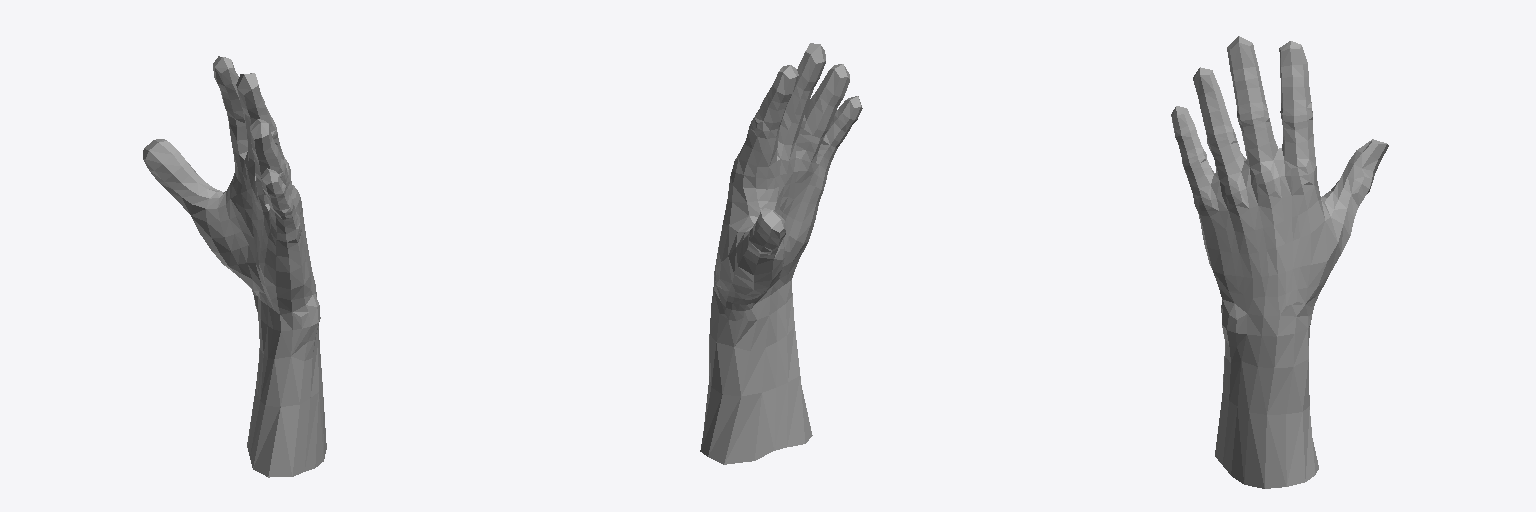
Rendered from hand_01.obj.
3 renders of one model, left to right at view 1: azimuth 30°, elevation 25°; view 2: azimuth 150°, elevation 25°; view 3: azimuth 270°, elevation 25°, orthographic.
Visible parts, largest first — view 1: hand_man:polySurface1 group1; view 2: hand_man:polySurface1 group1; view 3: hand_man:polySurface1 group1.
Part boxes in pixels (x1,y1,x2,y2): hand_man:polySurface1 group1: (143, 56, 326, 477); hand_man:polySurface1 group1: (700, 43, 862, 464); hand_man:polySurface1 group1: (1171, 36, 1388, 488).
Size of the model in its own units: 108 by 335 by 162.